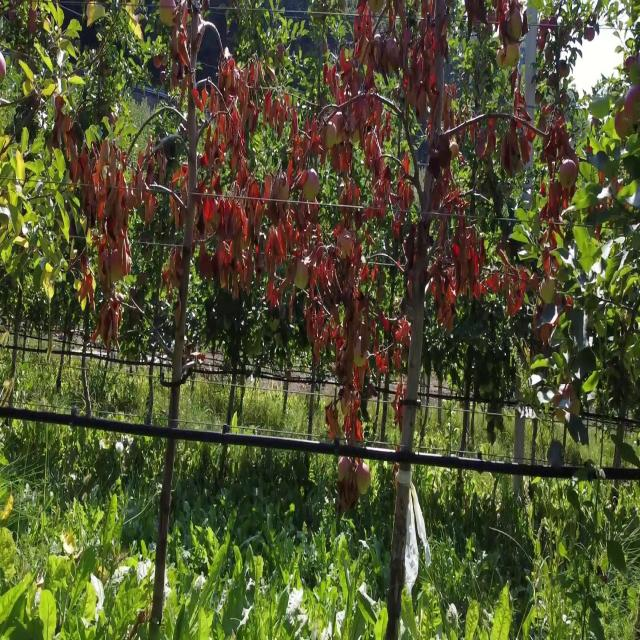apple: (464, 248, 484, 283), (508, 120, 525, 155), (560, 156, 580, 185), (340, 483, 360, 512), (125, 177, 142, 210), (384, 42, 403, 71), (304, 170, 320, 203), (144, 191, 158, 226), (356, 462, 372, 492), (464, 255, 480, 283), (388, 7, 407, 30), (140, 156, 155, 185), (508, 291, 524, 318), (440, 305, 456, 332), (548, 184, 563, 212), (64, 127, 78, 156), (476, 135, 490, 164), (628, 92, 640, 124), (56, 113, 72, 137), (616, 113, 630, 140), (444, 85, 459, 110), (340, 455, 353, 482), (200, 248, 212, 277), (416, 92, 428, 121), (504, 270, 519, 293), (468, 7, 485, 27), (100, 142, 115, 164), (324, 63, 339, 85), (544, 279, 556, 306), (544, 142, 556, 169), (140, 156, 152, 183), (488, 120, 499, 149), (160, 7, 175, 28), (468, 120, 482, 142), (268, 101, 283, 121), (204, 199, 217, 222), (264, 92, 275, 119), (556, 120, 568, 144), (340, 49, 353, 71), (372, 42, 385, 64), (476, 248, 486, 276), (488, 270, 500, 293), (468, 227, 478, 254), (132, 184, 143, 208), (356, 42, 369, 62), (96, 199, 107, 222), (64, 142, 78, 160), (220, 63, 229, 91), (28, 14, 39, 36), (408, 85, 419, 107), (516, 92, 527, 114), (564, 383, 575, 404), (132, 170, 143, 190), (432, 284, 443, 304), (560, 142, 572, 160), (504, 142, 512, 169), (628, 56, 640, 73), (180, 206, 190, 226), (344, 149, 352, 172), (584, 28, 596, 43), (80, 149, 89, 169), (524, 142, 532, 164), (476, 284, 487, 300), (572, 398, 580, 420), (404, 28, 412, 50), (544, 250, 552, 272), (452, 241, 461, 260), (73, 156, 80, 180), (56, 99, 67, 114), (544, 327, 553, 345), (404, 156, 411, 178), (356, 21, 364, 39), (468, 248, 479, 261), (120, 149, 127, 169), (500, 49, 508, 66), (556, 291, 564, 308), (564, 298, 573, 313), (552, 14, 559, 32), (560, 63, 568, 78), (532, 277, 540, 292), (528, 127, 536, 142), (548, 49, 555, 64), (172, 199, 179, 213), (156, 56, 162, 71), (276, 49, 284, 60), (4, 62, 8, 73), (12, 14, 16, 21)
